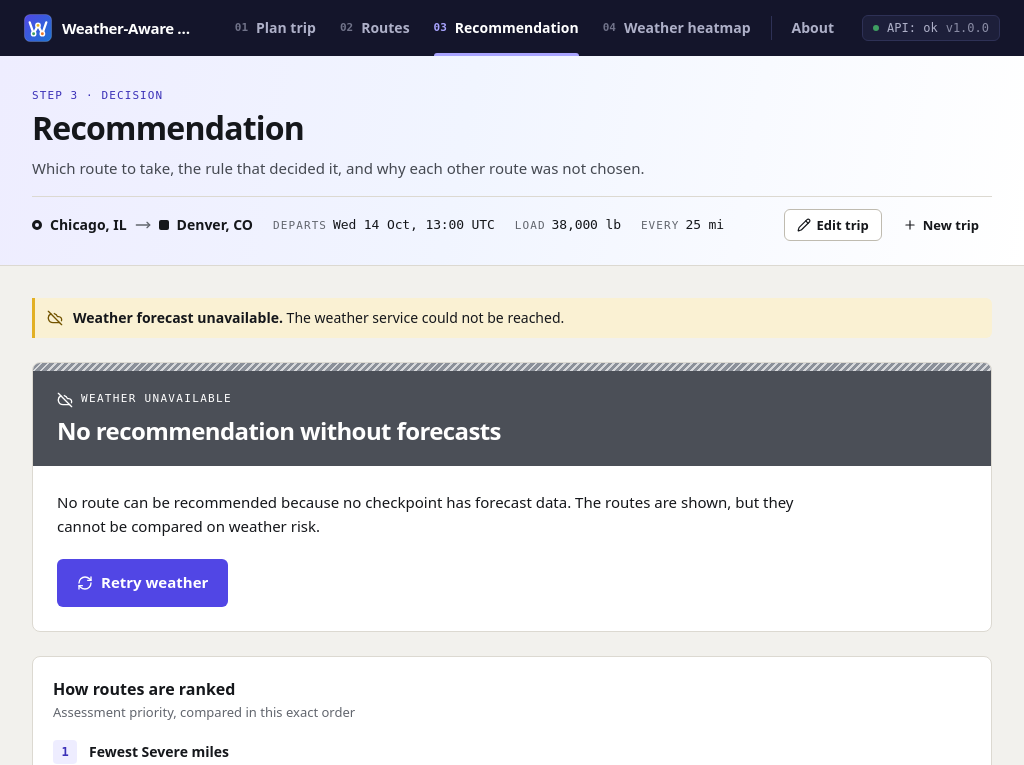
Test case: Recommendation › explains missing weather and retries the same plan
This screenshot has width=1024, height=765.
Expected: the heading "No recommendation without forecasts" is shown, [57, 414, 501, 447]
Expected: the text "Weather forecast unavailable." is shown, [73, 308, 283, 327]
Click the button "Retry weather".
click(143, 583)  # box [57, 559, 228, 607]
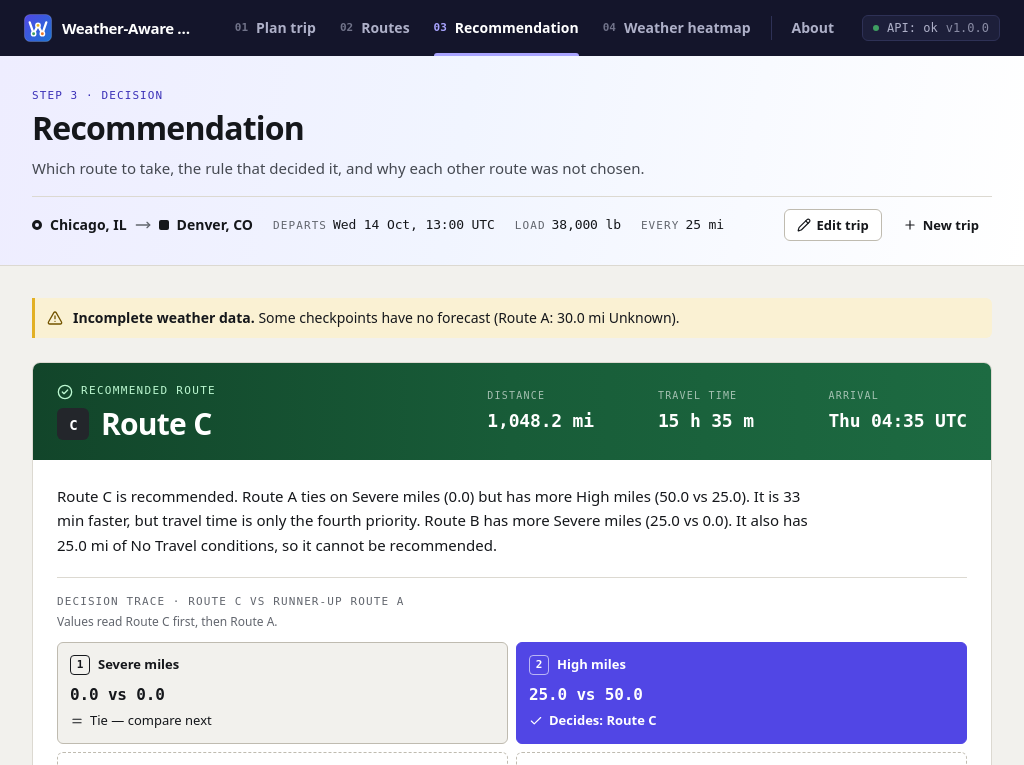
Expected: the heading "C Route C" is shown, [57, 403, 212, 444]
